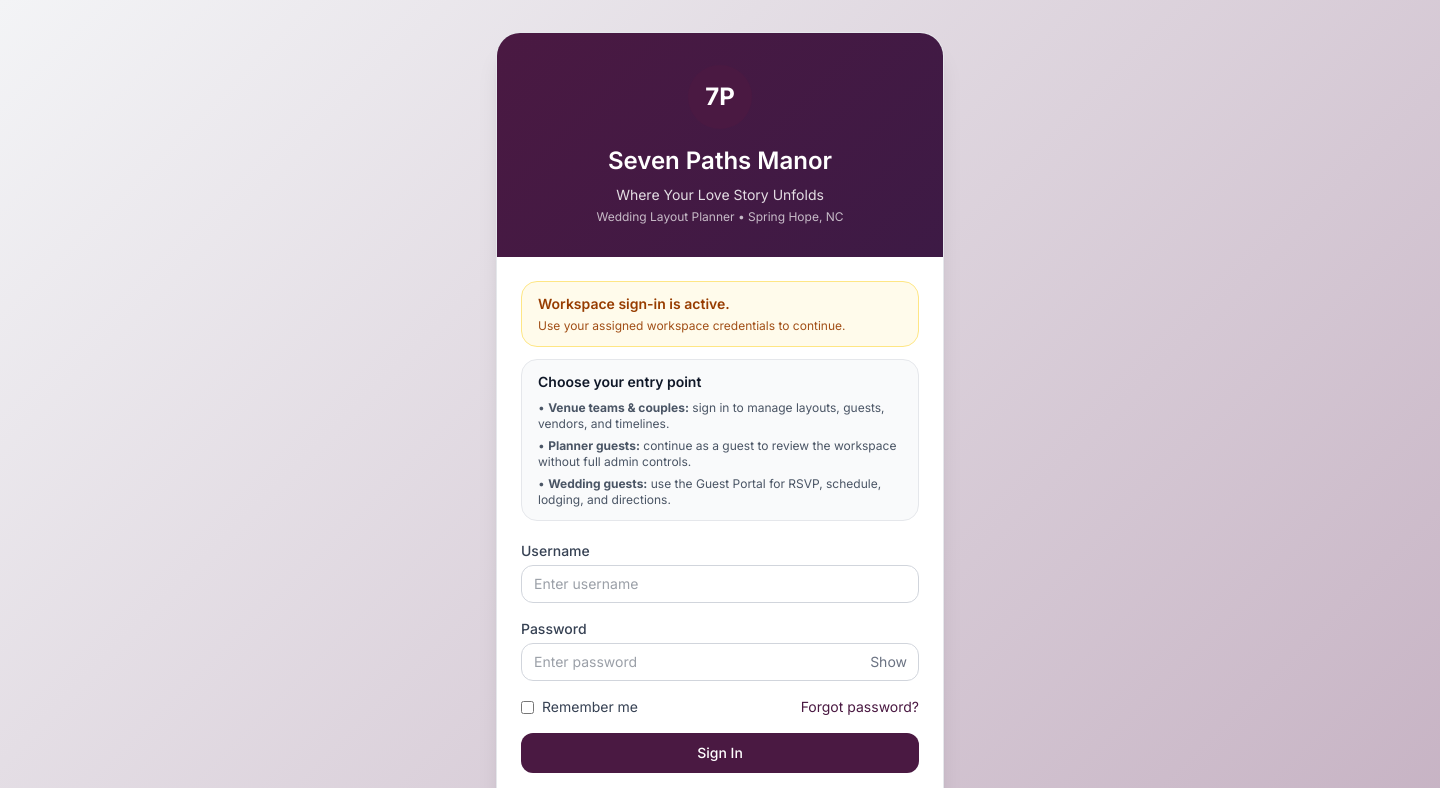
Test case: LoginScreen › shows an error message when login fails
Type "jane" into the field labelled "Username" at (720, 584), box [521, 565, 919, 603]
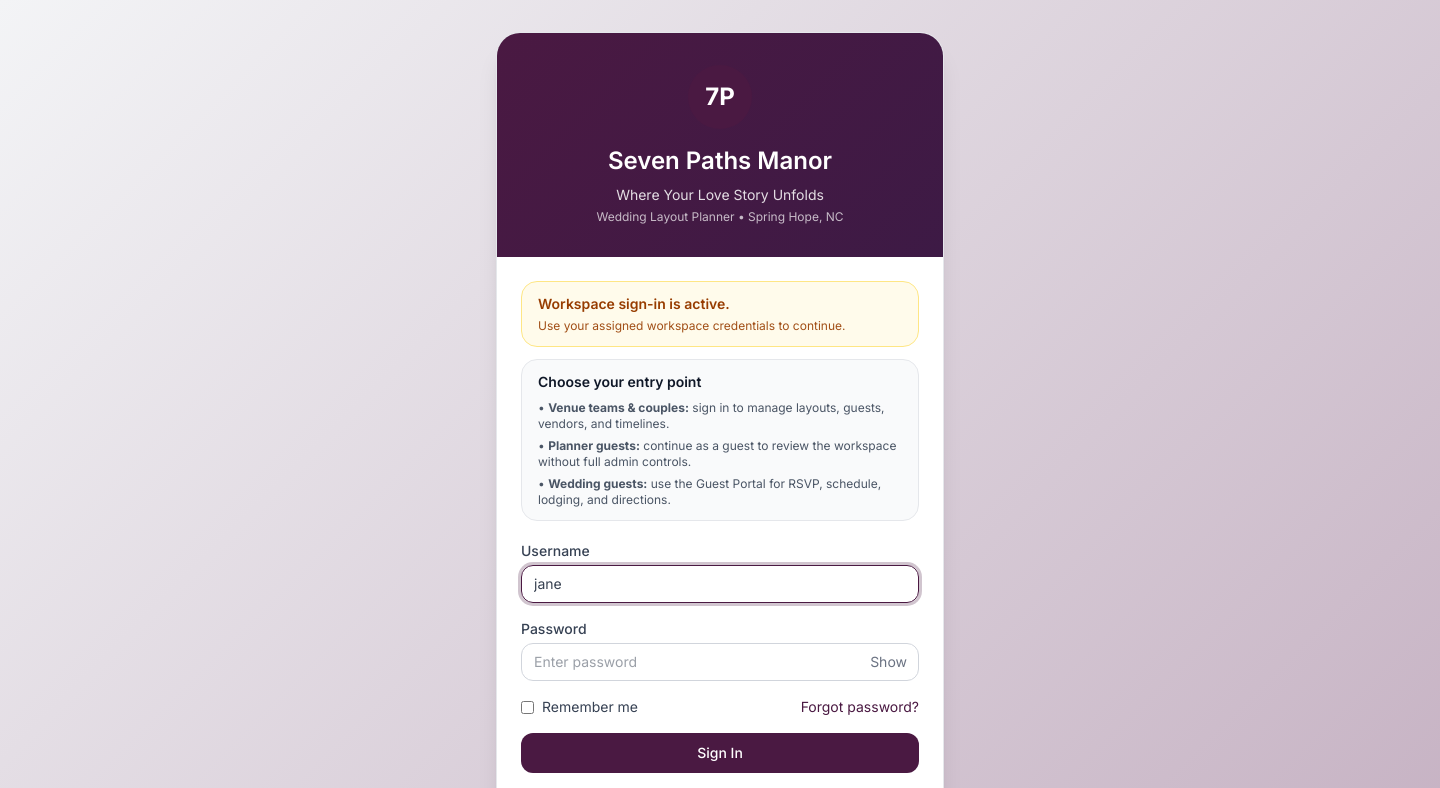
Type "wrong" into the password field labelled "Password" at (720, 662), box [521, 643, 919, 681]
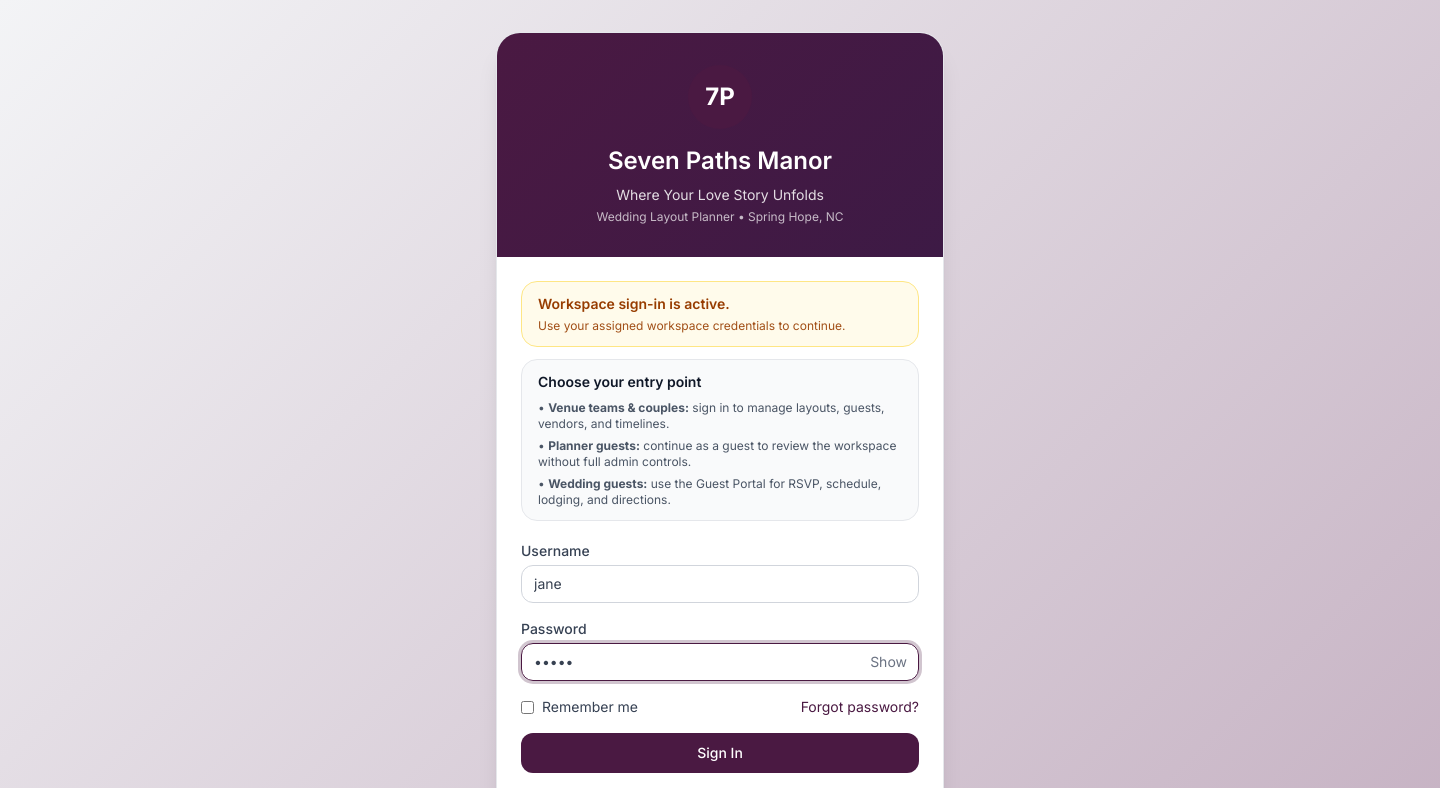
Click the button "Sign In" at (720, 753), box [521, 733, 919, 773]
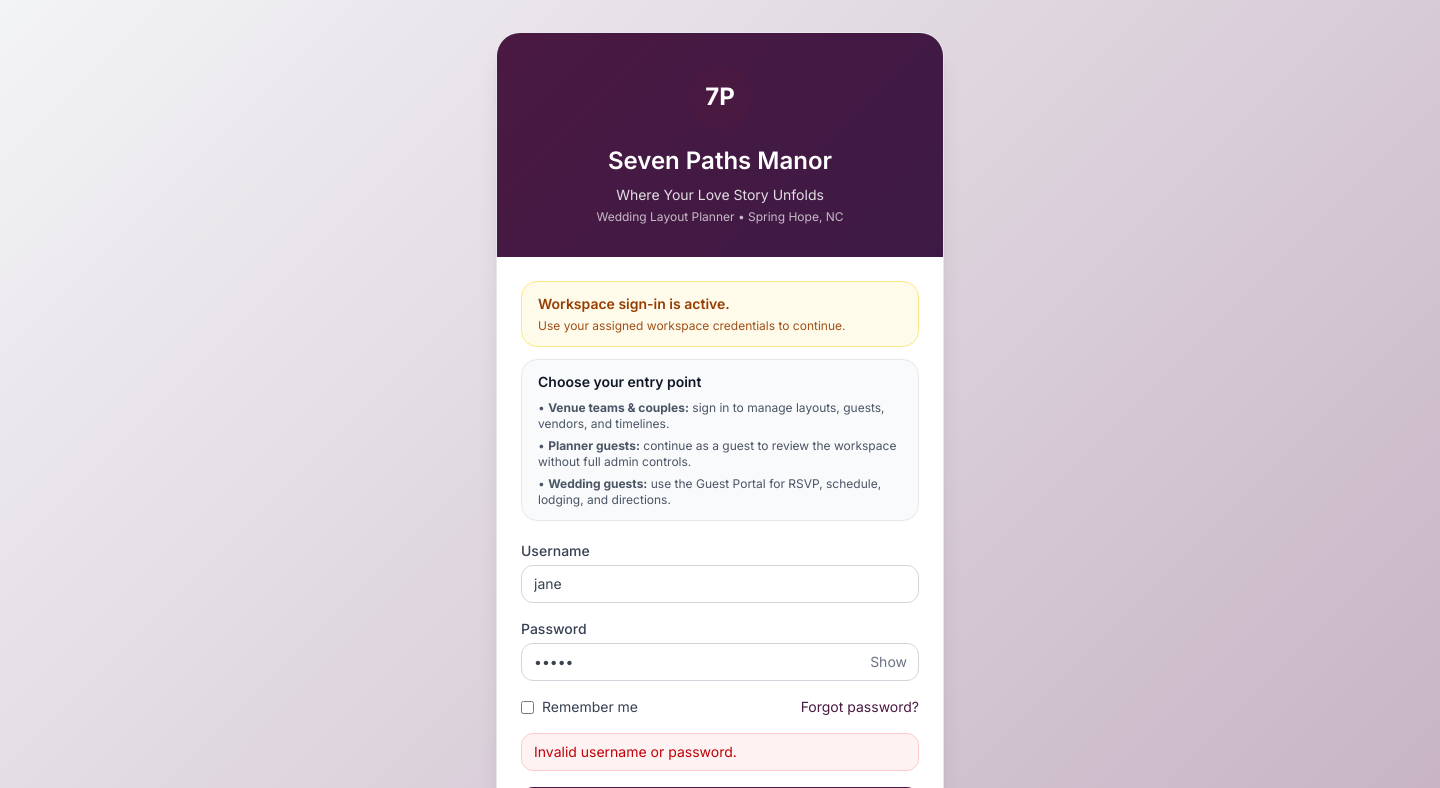
Expected: the message shows "Invalid username or password", [534, 743, 737, 760]
